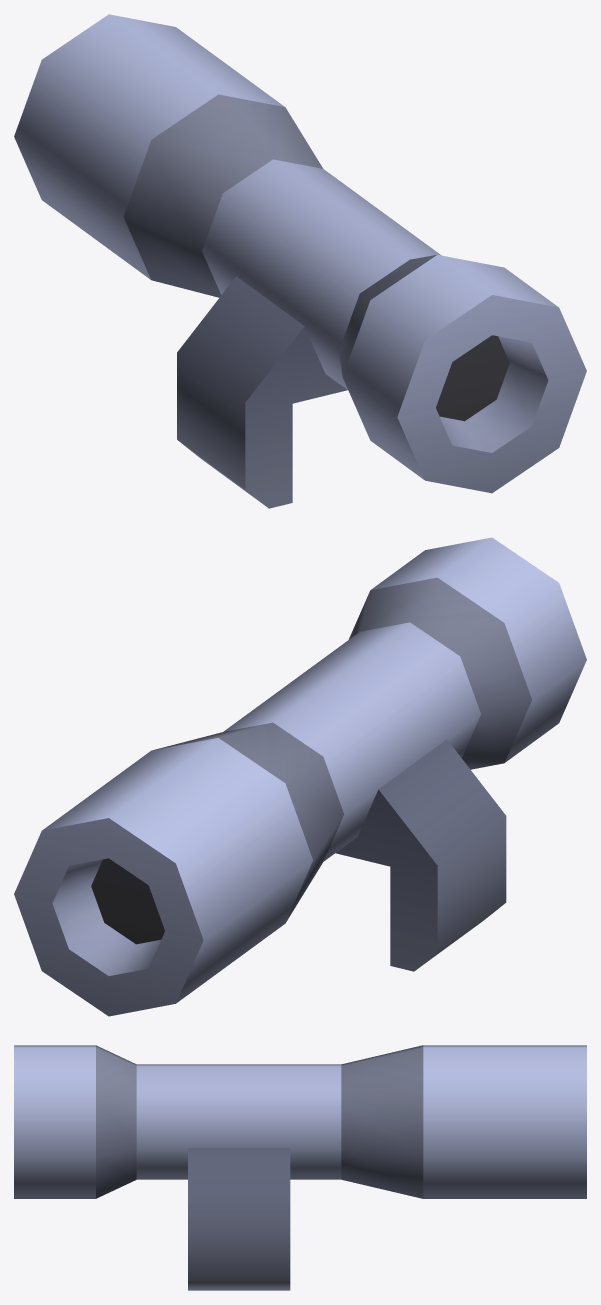
Rendered from kenney-blaster-scope-small.glb.
3 views of the same model, one above another, from view 1: azimuth 30°, elevation 25°; view 2: azimuth 150°, elevation 25°; view 3: azimuth 270°, elevation 25° (orthographic). The views are drawn at different scales.
Visible parts, largest first — view 1: scope-small; view 2: scope-small; view 3: scope-small.
Boxes of the visible parts, x1,y1,x2,y2 form: scope-small: (14, 14, 586, 508); scope-small: (14, 537, 586, 1016); scope-small: (14, 1045, 586, 1290).
Bounding box in the file's own units: 0.11 × 0.11 × 0.28.
1 material, 1 textured.
